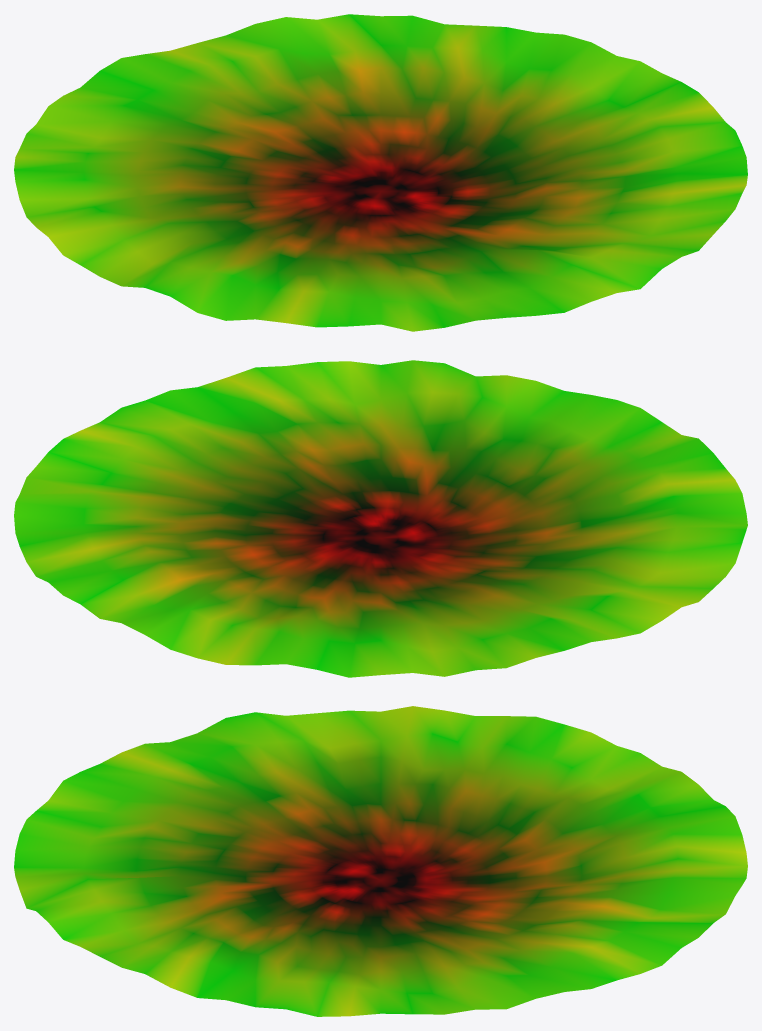
File: SM_Env_Ground.fbx
The picture shows the model from 3 angles, top to bottom: view 1: azimuth 30°, elevation 25°; view 2: azimuth 150°, elevation 25°; view 3: azimuth 270°, elevation 25°; orthographic projection.
Parts seen in each view (by area): view 1: SM_Env_Ground; view 2: SM_Env_Ground; view 3: SM_Env_Ground.
Part boxes in pixels (x1,y1,x2,y2): SM_Env_Ground: (14,14,747,331); SM_Env_Ground: (14,360,747,677); SM_Env_Ground: (14,706,747,1016).
Size of the model in its own units: 840 by 31.97 by 840.
